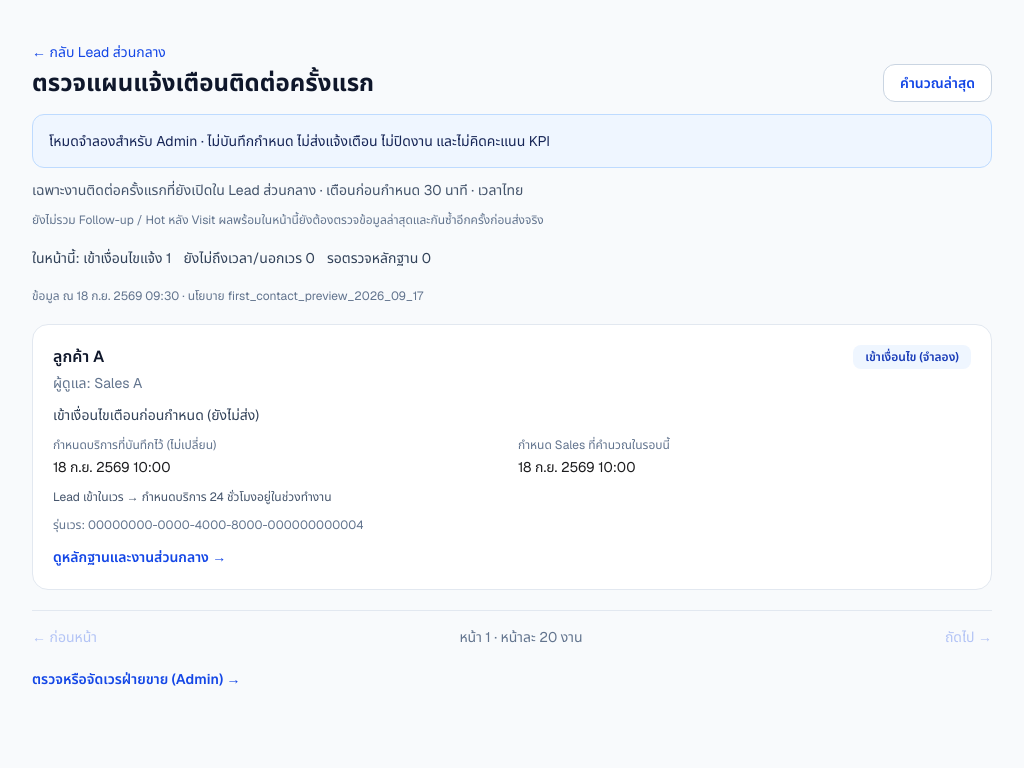
Test: read-only Admin first-contact preview › discards late results on identity events, requires explicit recheck, and unsubscribes
Expected: the heading "ลูกค้า A" is shown, [53, 346, 104, 367]
Click the button "คำนวณล่าสุด". click: (938, 83)
box: [883, 64, 992, 102]
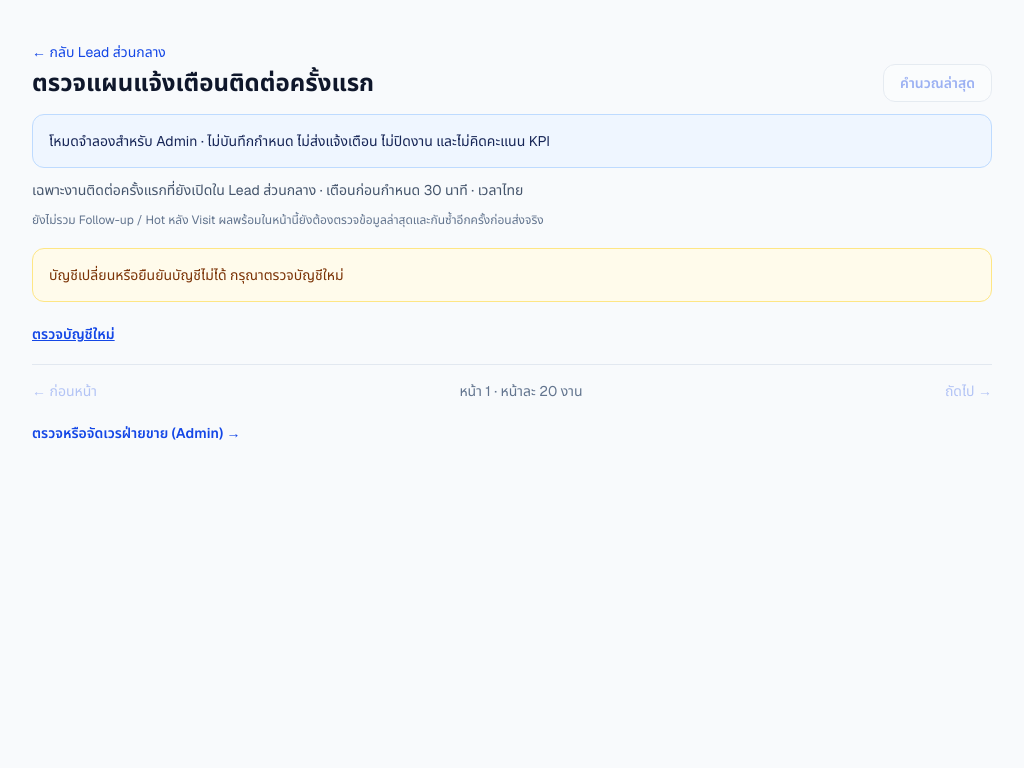
Expected: the button "คำนวณล่าสุด" is disabled, [883, 64, 992, 102]
Click the button "ตรวจบัญชีใหม่". click: (73, 334)
box: [32, 324, 115, 344]
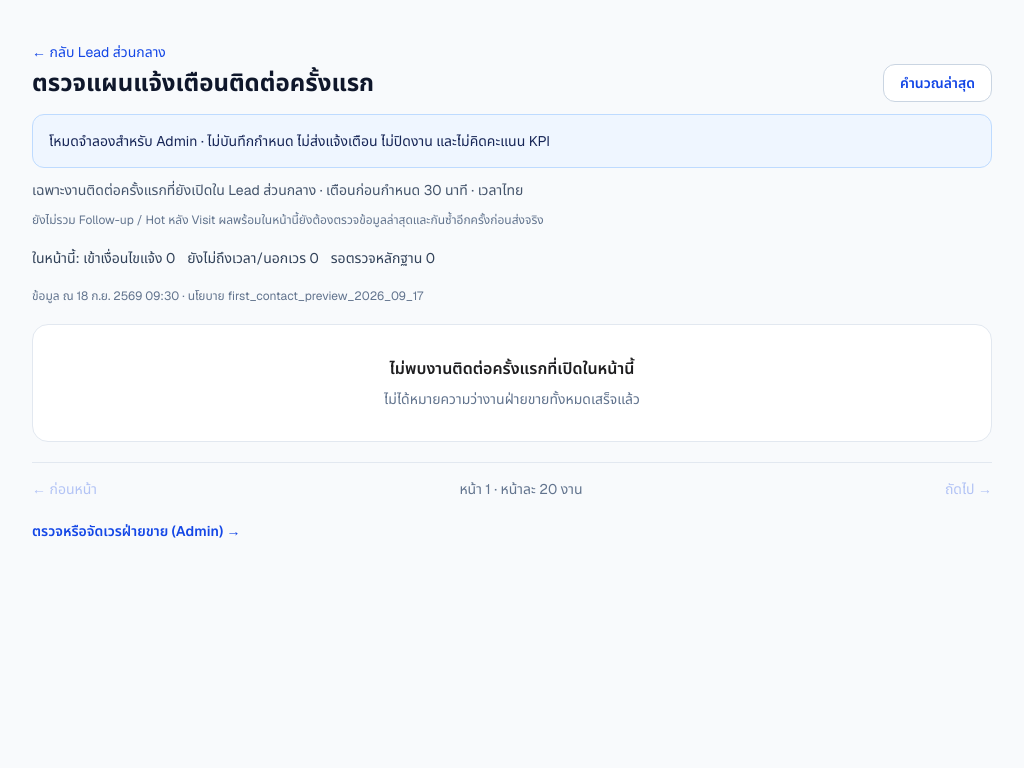
Expected: the heading "ไม่พบงานติดต่อครั้งแรกที่เปิดในหน้านี้" is shown, [390, 358, 634, 379]
